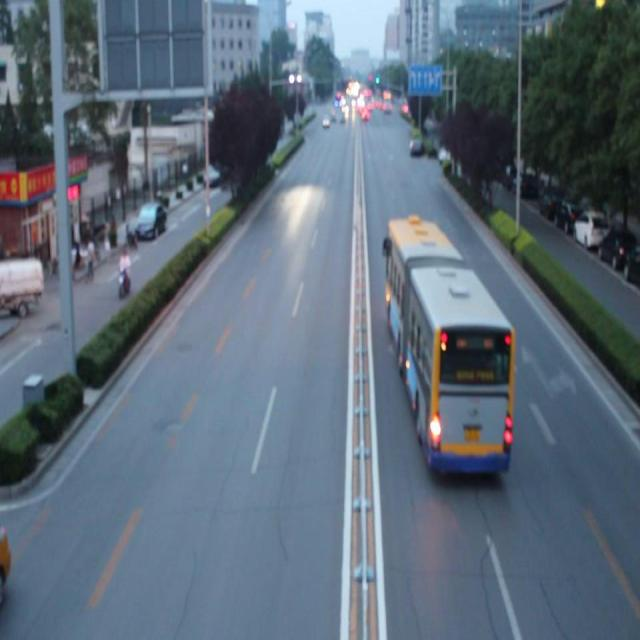van: (386, 216, 510, 474)
